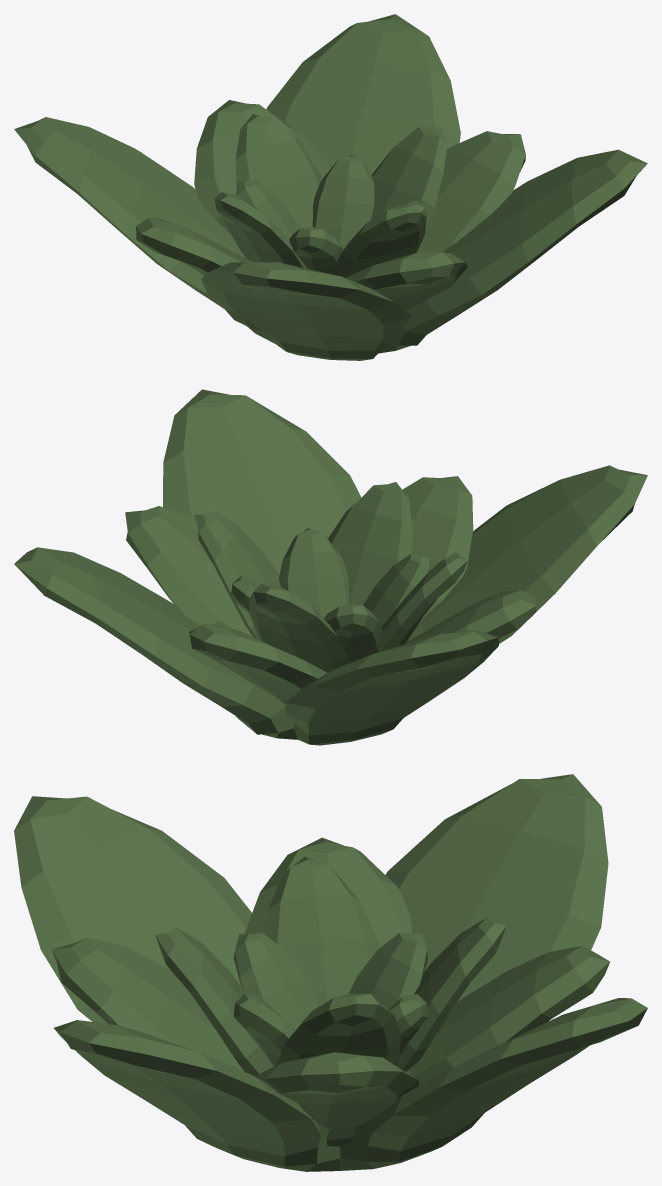
File: Cactus Flower 1.glb
3 views of the same model, one above another, from view 1: azimuth 30°, elevation 25°; view 2: azimuth 150°, elevation 25°; view 3: azimuth 270°, elevation 25° (orthographic). The views are drawn at different scales.
Parts seen in each view (by area): view 1: CactusFlower_1; view 2: CactusFlower_1; view 3: CactusFlower_1.
Boxes of the visible parts, x1,y1,x2,y2 form: CactusFlower_1: (14,14,647,360); CactusFlower_1: (14,389,647,745); CactusFlower_1: (14,774,647,1171).
Bounding box in the file's own units: 0.8819 × 0.3613 × 0.8683.
